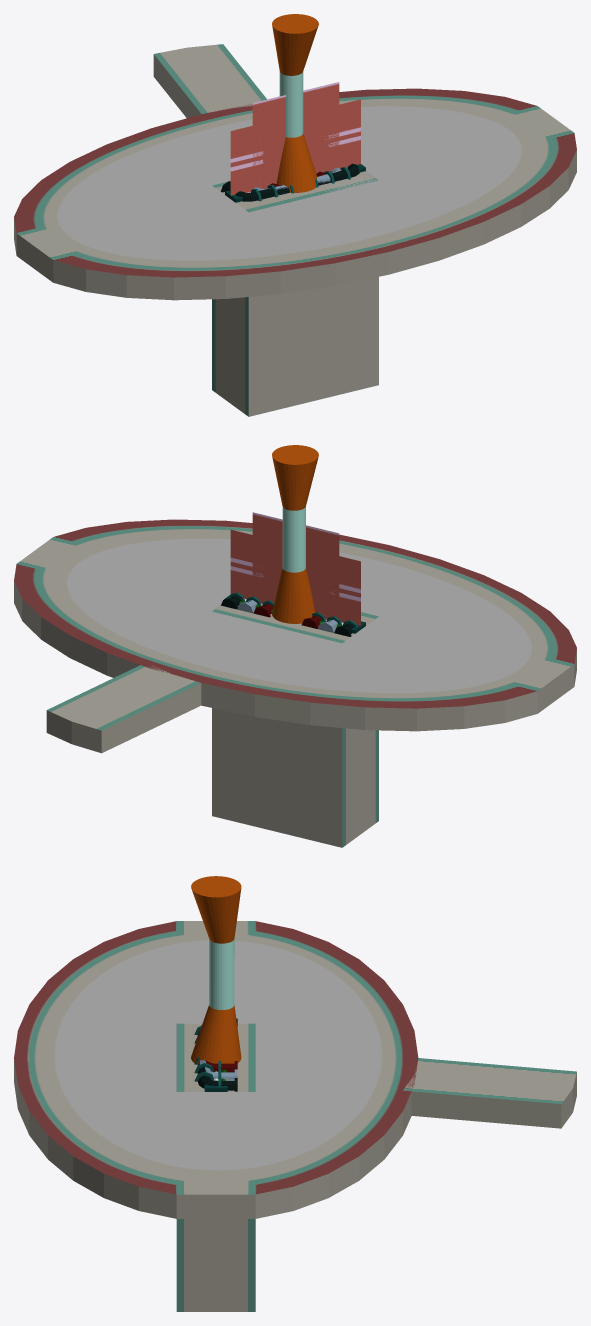
File: Map_Release_3.fbx
The picture shows the model from 3 angles, top to bottom: view 1: azimuth 30°, elevation 25°; view 2: azimuth 150°, elevation 25°; view 3: azimuth 270°, elevation 25°; orthographic projection. The views are drawn at different scales.
Parts seen in each view (by area): view 1: Zemin_Yuvarlak, Z_Yamac_Md_9, Zemin_Yuvarlak_Yol, Sutun, Duvar_Dik_ver1_Basic_3, Duvar_ver1_Basic_3, Duvar_ver2, Duvar_Dik_ver1_Maxi_4, Metal_Boru_lg, Duvar_Dik_ver1_Mini_2; view 2: Zemin_Yuvarlak, Z_Yamac_Md_9, Zemin_Yuvarlak_Yol, Sutun, Duvar_Dik_ver1_Maxi_4, Duvar_ver2, Duvar_ver1_Basic_3, Duvar_Dik_ver1_Basic_3, Z_Yamac_Sm_5, Duvar_Dik_ver1_Mini_2, Metal_Boru_md; view 3: Zemin_Yuvarlak, Z_Yamac_Md_9, Zemin_Yuvarlak_Yol, Sutun.
Part boxes in pixels (left/top/right/bottom): Zemin_Yuvarlak: left=14, top=88, right=576, bottom=300; Z_Yamac_Md_9: left=212, top=171, right=378, bottom=416; Zemin_Yuvarlak_Yol: left=153, top=44, right=266, bottom=118; Sutun: left=272, top=14, right=318, bottom=192; Duvar_Dik_ver1_Basic_3: left=263, top=84, right=328, bottom=188; Duvar_ver1_Basic_3: left=230, top=99, right=360, bottom=195; Duvar_ver2: left=230, top=100, right=360, bottom=194; Duvar_Dik_ver1_Maxi_4: left=252, top=82, right=339, bottom=188; Metal_Boru_lg: left=221, top=163, right=359, bottom=201; Duvar_Dik_ver1_Mini_2: left=274, top=87, right=317, bottom=173; Zemin_Yuvarlak: left=14, top=519, right=576, bottom=731; Z_Yamac_Md_9: left=212, top=605, right=378, bottom=847; Zemin_Yuvarlak_Yol: left=46, top=665, right=201, bottom=753; Sutun: left=272, top=445, right=318, bottom=623; Duvar_Dik_ver1_Maxi_4: left=252, top=512, right=339, bottom=619; Duvar_ver2: left=230, top=530, right=360, bottom=625; Duvar_ver1_Basic_3: left=230, top=530, right=360, bottom=625; Duvar_Dik_ver1_Basic_3: left=263, top=515, right=282, bottom=602; Z_Yamac_Sm_5: left=212, top=708, right=375, bottom=756; Duvar_Dik_ver1_Mini_2: left=306, top=525, right=317, bottom=612; Metal_Boru_md: left=237, top=596, right=341, bottom=632; Zemin_Yuvarlak: left=14, top=921, right=418, bottom=1218; Z_Yamac_Md_9: left=176, top=1023, right=255, bottom=1311; Zemin_Yuvarlak_Yol: left=403, top=1058, right=576, bottom=1128; Sutun: left=191, top=876, right=241, bottom=1064.
Size of the model in its own units: 2400 by 1600 by 2088.
Materials: 3 (3 with a texture image).
